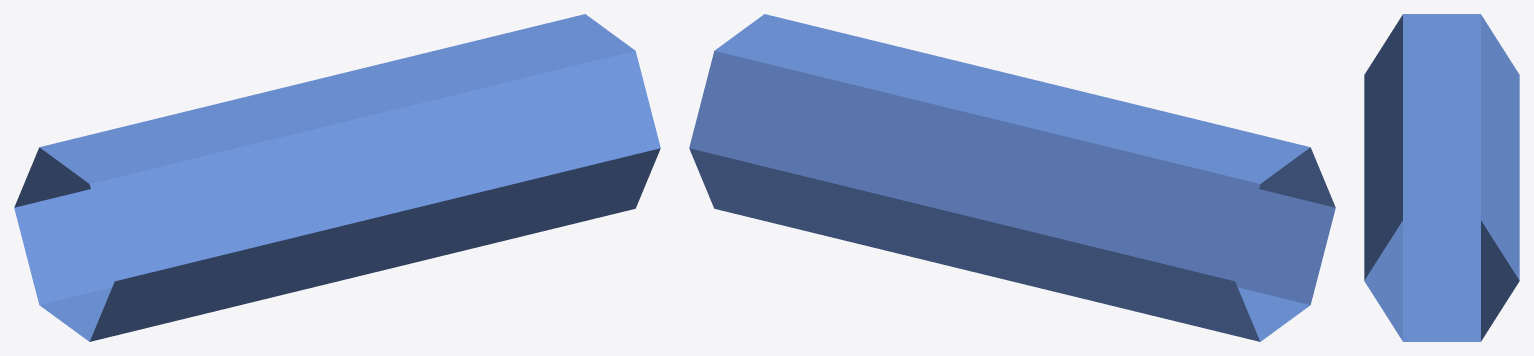
Rendered from pipe.fbx.
The picture shows the model from 3 angles, left to right: view 1: azimuth 30°, elevation 25°; view 2: azimuth 150°, elevation 25°; view 3: azimuth 270°, elevation 25°; orthographic projection. The views are drawn at different scales.
Visible parts, largest first — view 1: Cylinder.003; view 2: Cylinder.003; view 3: Cylinder.003.
Boxes of the visible parts, x1=… form: Cylinder.003: x1=14, y1=14, x2=660, y2=341; Cylinder.003: x1=689, y1=14, x2=1335, y2=341; Cylinder.003: x1=1364, y1=14, x2=1519, y2=341.
Bounding box in the file's own units: 145 × 40.08 × 46.28.
